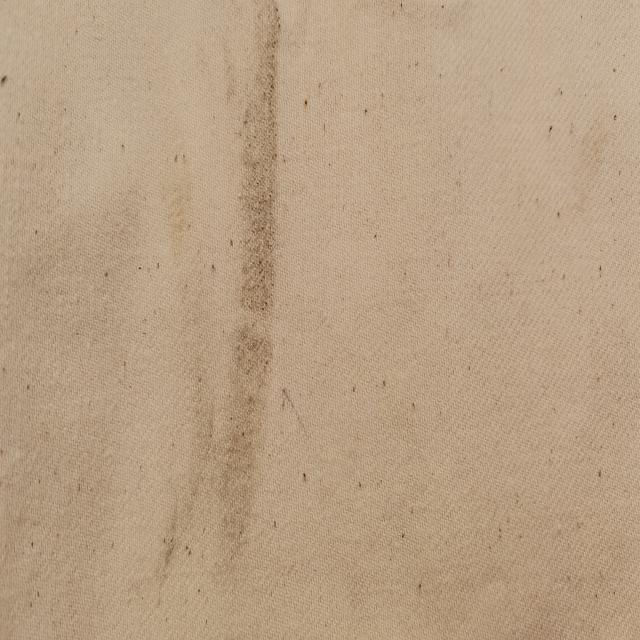taaaches: (195, 31, 302, 636), (154, 511, 191, 592)
